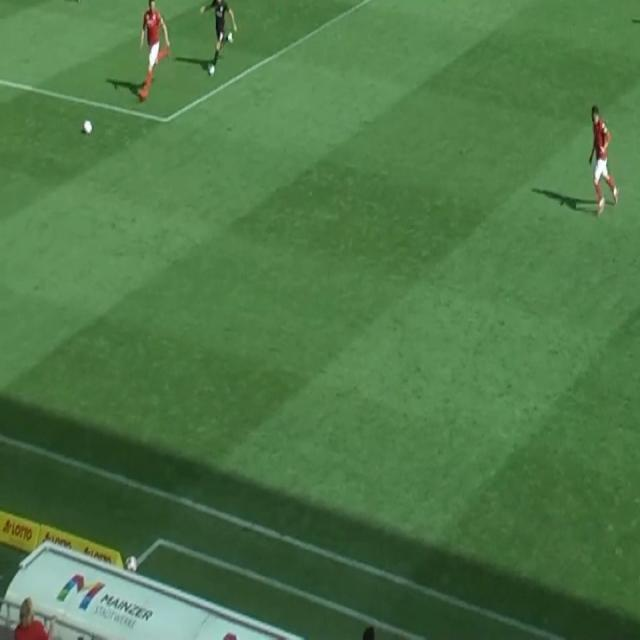ball: (83, 119, 93, 136)
